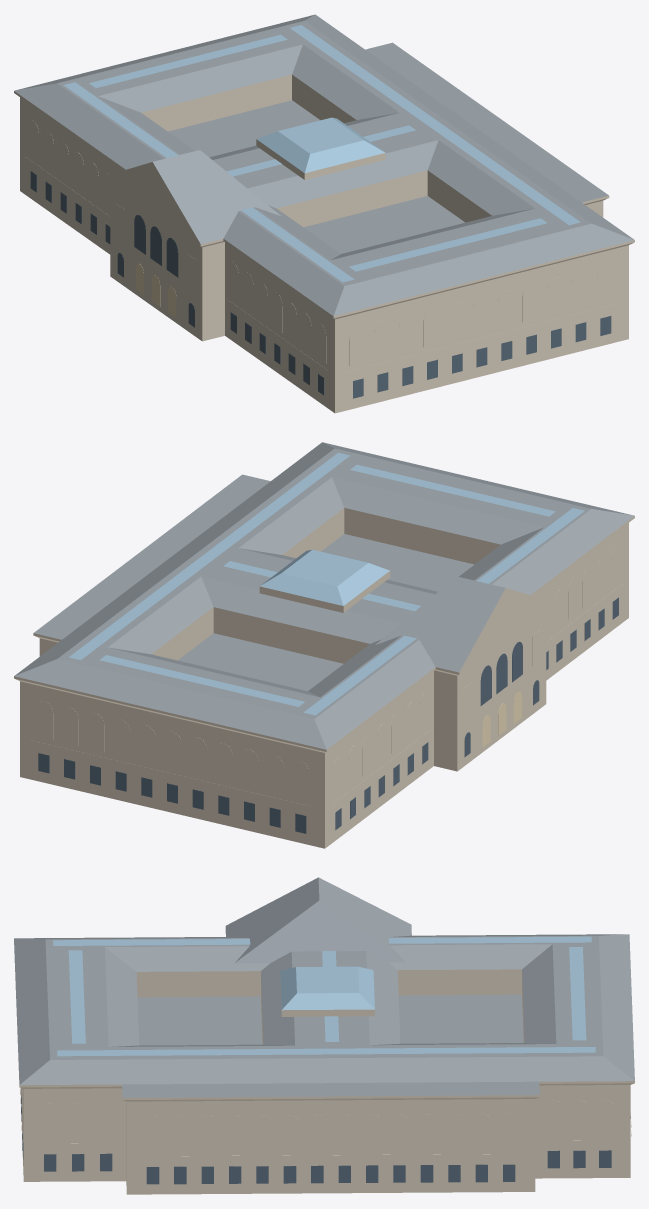
The model's file is detail.glb.
3 renders of one model, top to bottom at view 1: azimuth 30°, elevation 25°; view 2: azimuth 150°, elevation 25°; view 3: azimuth 270°, elevation 25°, orthographic. The views are drawn at different scales.
Parts seen in each view (by area): view 1: art-institute-of-chicago; view 2: art-institute-of-chicago; view 3: art-institute-of-chicago.
Boxes of the visible parts, x1,y1,x2,y2 form: art-institute-of-chicago: (14, 14, 634, 413); art-institute-of-chicago: (14, 442, 634, 848); art-institute-of-chicago: (14, 877, 634, 1194).
Size of the model in its own units: 65.94 by 26 by 99.87.
